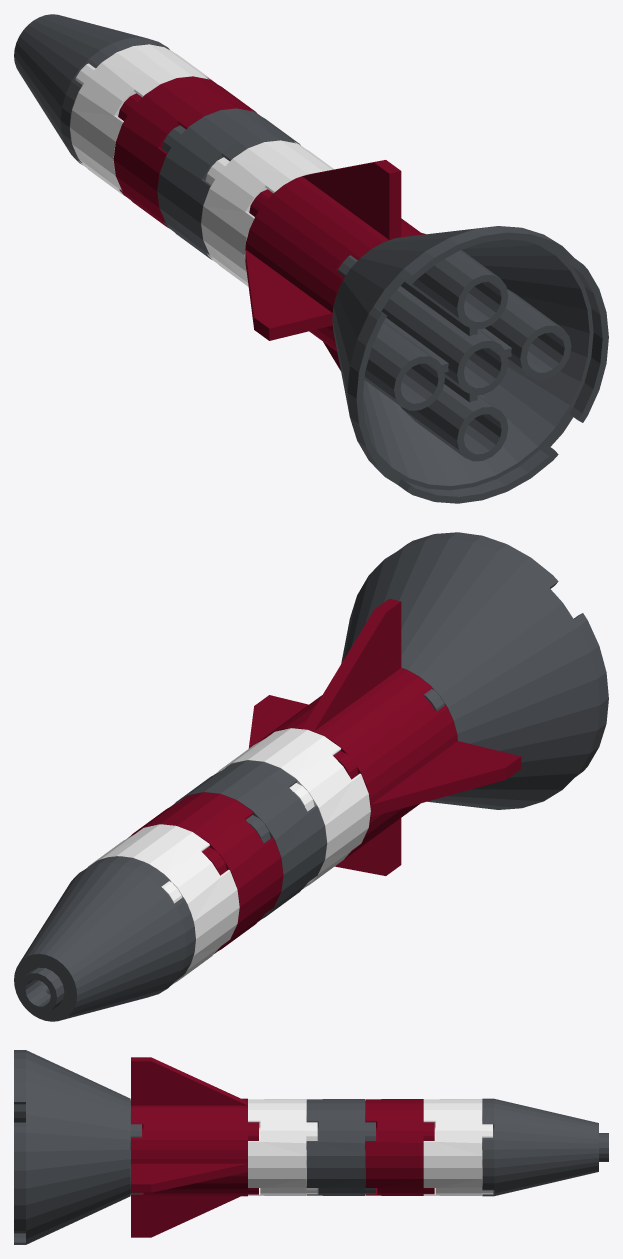
Rendered from booster.obj.
3 renders of one model, top to bottom at view 1: azimuth 30°, elevation 25°; view 2: azimuth 150°, elevation 25°; view 3: azimuth 270°, elevation 25°, orthographic. The views are drawn at different scales.
Visible parts, largest first — view 1: Part.3, Part.1, Part.5, Part.4, Part.6, Part.2, Part.7; view 2: Part.3, Part.1, Part.7, Part.2, Part.4, Part.5, Part.6; view 3: Part.3, Part.1, Part.7, Part.4, Part.2, Part.5, Part.6.
Boxes of the visible parts, x1=… form: Part.3: x1=332, y1=226, x2=608, y2=503; Part.1: x1=245, y1=160, x2=425, y2=370; Part.5: x1=113, y1=76, x2=256, y2=227; Part.4: x1=157, y1=108, x2=300, y2=259; Part.6: x1=70, y1=44, x2=212, y2=195; Part.2: x1=201, y1=140, x2=334, y2=286; Part.7: x1=14, y1=14, x2=169, y2=164; Part.3: x1=341, y1=532, x2=608, y2=809; Part.1: x1=248, y1=598, x2=521, y2=875; Part.7: x1=14, y1=856, x2=195, y2=1021; Part.2: x1=215, y1=728, x2=370, y2=889; Part.4: x1=172, y1=760, x2=327, y2=921; Part.5: x1=127, y1=792, x2=283, y2=953; Part.6: x1=86, y1=824, x2=239, y2=985; Part.3: x1=14, y1=1050, x2=141, y2=1244; Part.1: x1=131, y1=1057, x2=258, y2=1237; Part.7: x1=482, y1=1098, x2=608, y2=1196; Part.4: x1=306, y1=1099, x2=375, y2=1195; Part.2: x1=248, y1=1099, x2=317, y2=1195; Part.5: x1=365, y1=1099, x2=434, y2=1195; Part.6: x1=423, y1=1099, x2=492, y2=1195.
Bounding box in the file's own units: 32 × 32 × 97.58.
